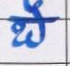ai_matra: (24, 0, 48, 19)
